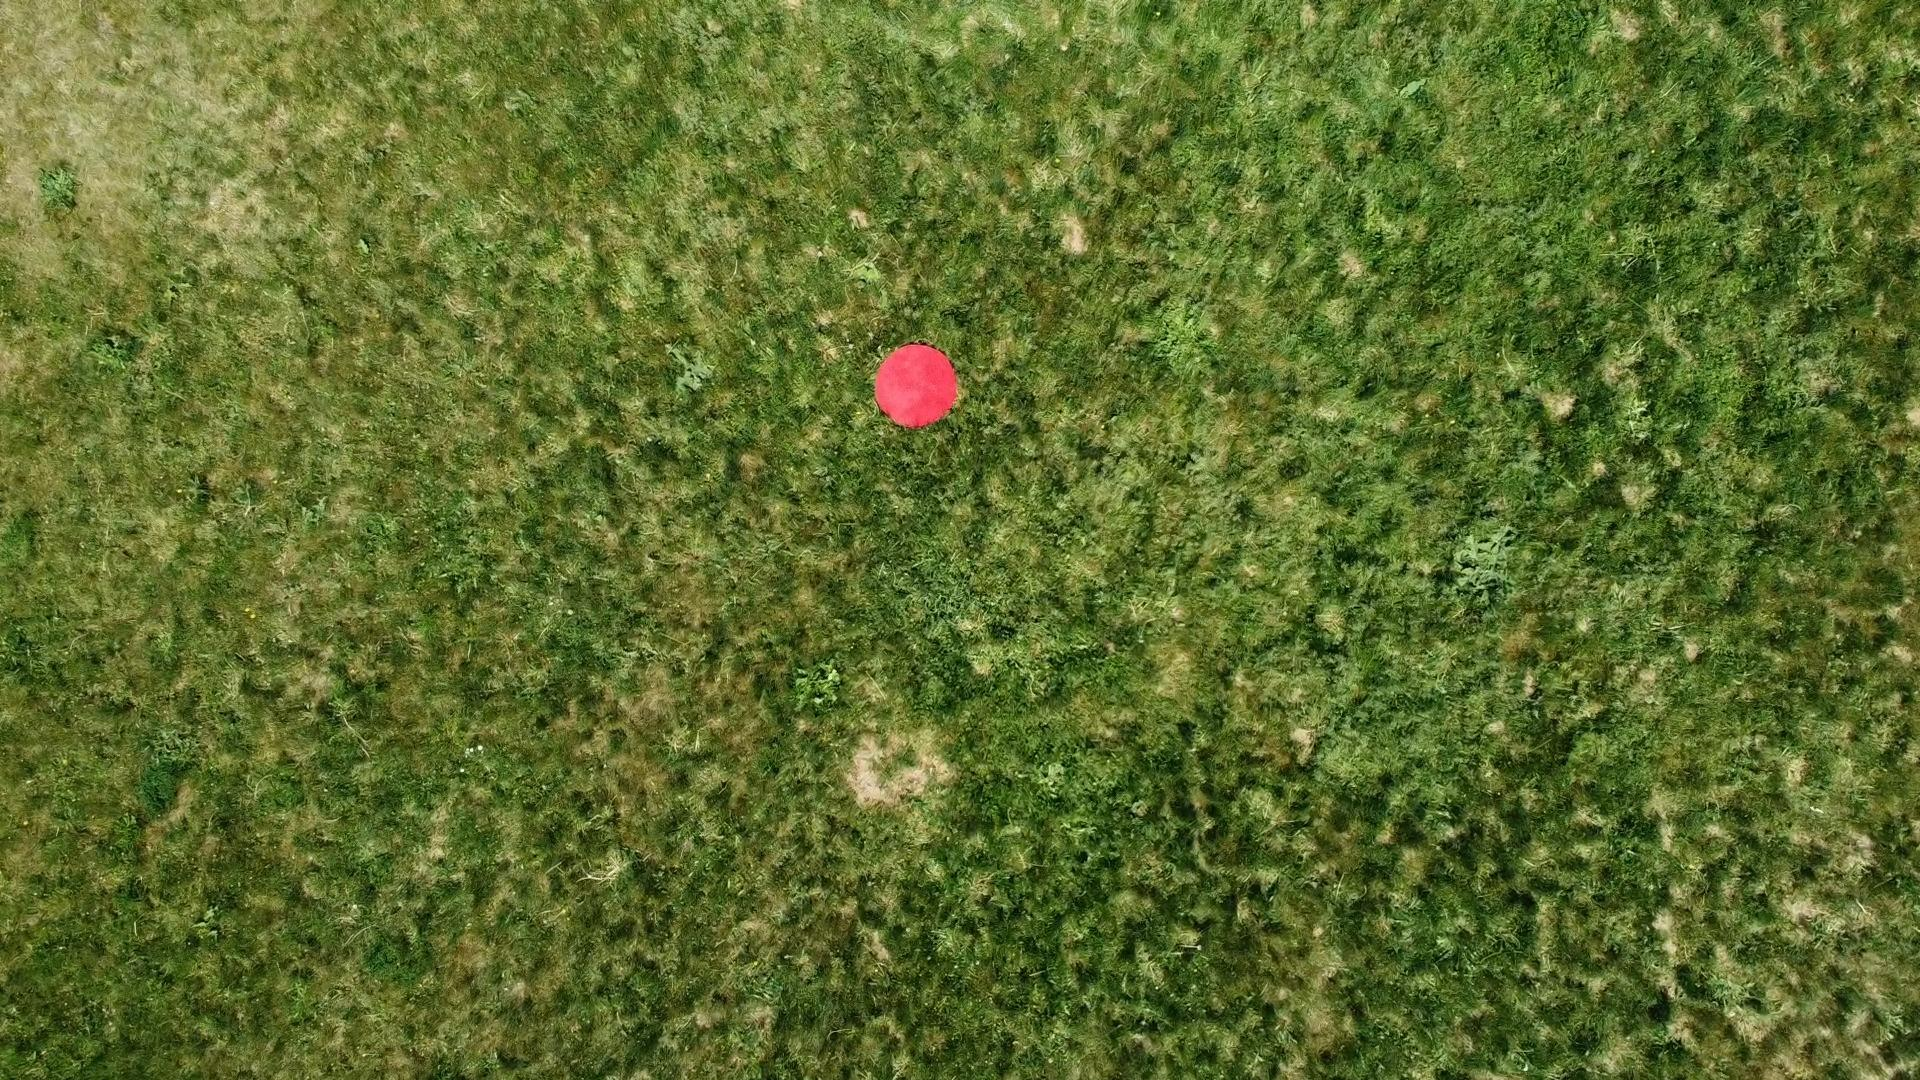Red: (872, 342, 960, 431)
